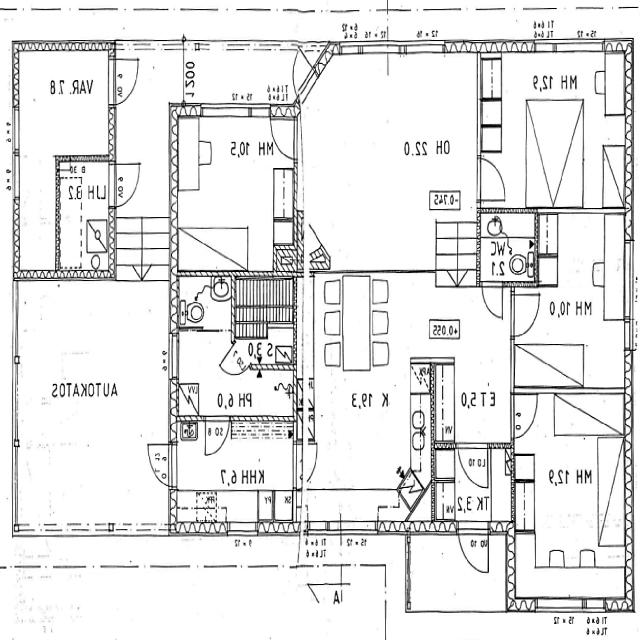door: (279, 44, 320, 107), (458, 522, 488, 584), (220, 340, 252, 390), (458, 443, 488, 496), (110, 59, 145, 103), (143, 443, 178, 486), (110, 163, 144, 207), (295, 443, 325, 486), (477, 158, 507, 200), (512, 294, 542, 336), (512, 398, 540, 437), (206, 414, 230, 458), (271, 122, 298, 160), (482, 280, 502, 318)
